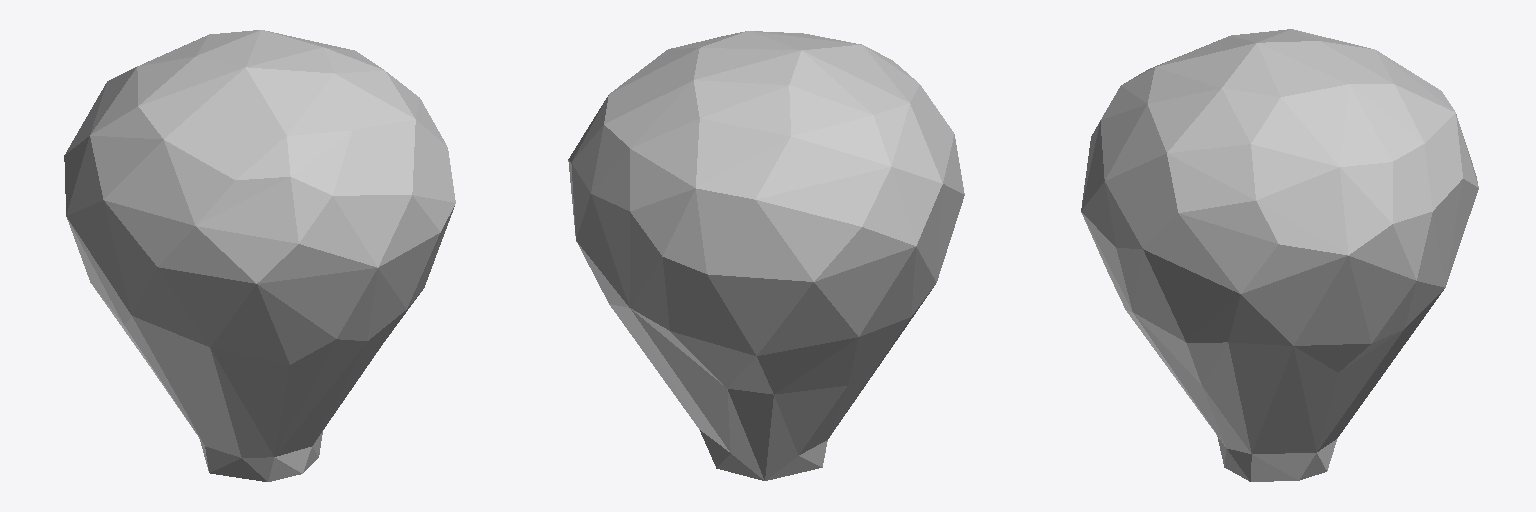
Rendered from balloon1.obj.
3 renders of one model, left to right at view 1: azimuth 30°, elevation 25°; view 2: azimuth 150°, elevation 25°; view 3: azimuth 270°, elevation 25°, orthographic.
Parts seen in each view (by area): view 1: Icosphere.001; view 2: Icosphere.001; view 3: Icosphere.001.
Boxes of the visible parts, x1,y1,x2,y2 form: Icosphere.001: [64, 30, 455, 481]; Icosphere.001: [568, 31, 964, 480]; Icosphere.001: [1081, 29, 1478, 481].
Bounding box in the file's own units: 2.23 × 2.55 × 2.27.